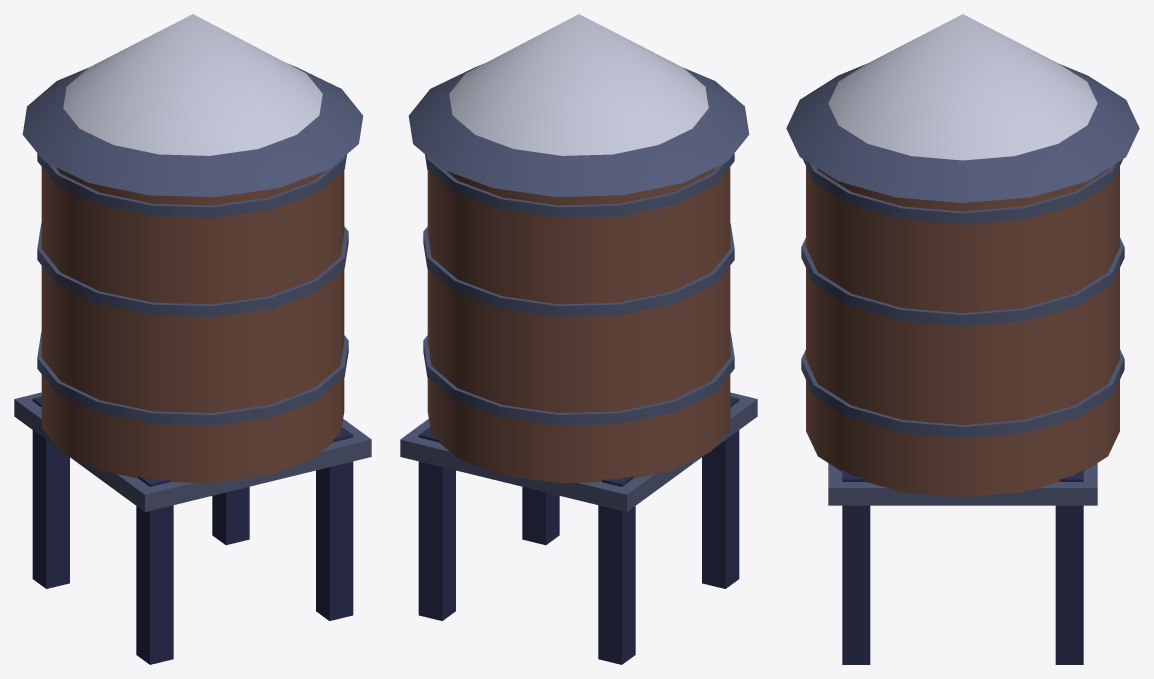
Rendered from Roof_WaterTank.fbx.
The picture shows the model from 3 angles, left to right: view 1: azimuth 30°, elevation 25°; view 2: azimuth 150°, elevation 25°; view 3: azimuth 270°, elevation 25°; orthographic projection. The views are drawn at different scales.
Parts seen in each view (by area): view 1: Roof_WaterTank; view 2: Roof_WaterTank; view 3: Roof_WaterTank.
Boxes of the visible parts, x1,y1,x2,y2 form: Roof_WaterTank: (14, 14, 371, 664); Roof_WaterTank: (400, 14, 757, 664); Roof_WaterTank: (786, 14, 1139, 664).
Bounding box in the file's own units: 6.3 × 11.8 × 6.3.
1 material, 1 textured.
